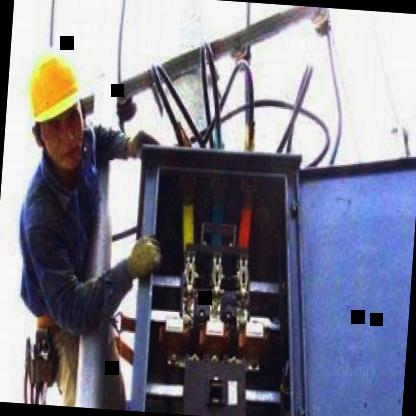helmet: (17, 35, 97, 184)
